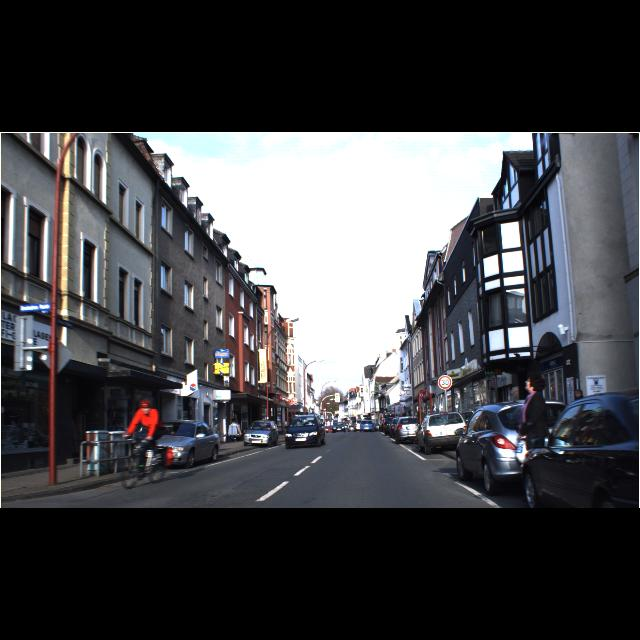prohibitory: (438, 374, 452, 390)
